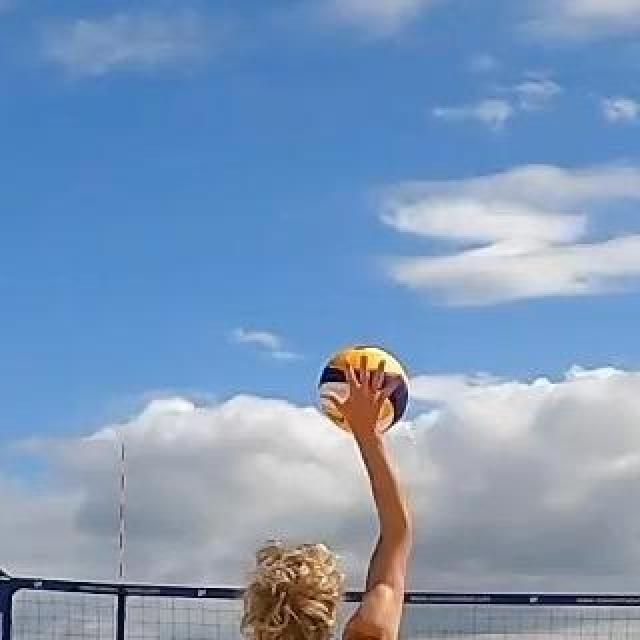volleyball: (319, 344, 411, 436)
